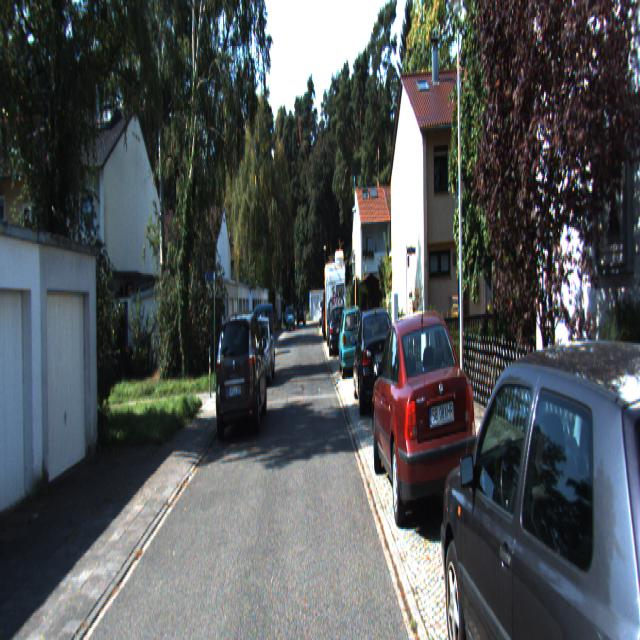Car: (436, 316, 640, 638), (370, 308, 478, 545), (214, 310, 267, 439), (351, 303, 397, 417), (246, 311, 276, 382), (338, 303, 365, 378), (324, 258, 346, 344), (329, 301, 348, 354)
